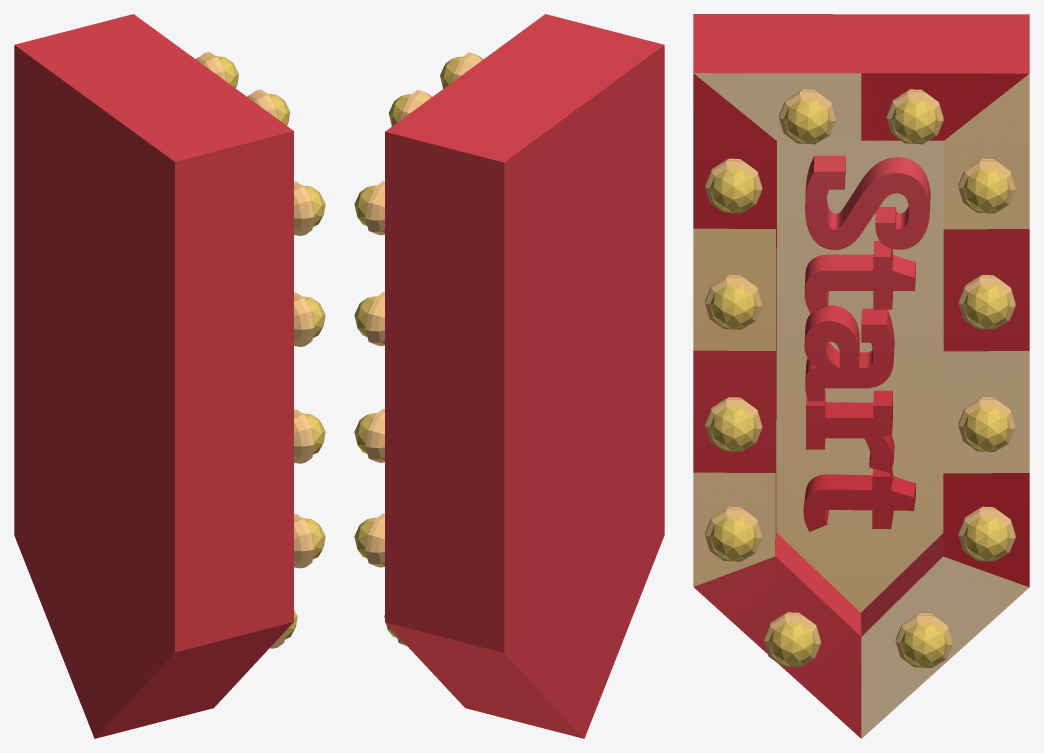
File: Start_button.fbx
3 renders of one model, left to right at view 1: azimuth 30°, elevation 25°; view 2: azimuth 150°, elevation 25°; view 3: azimuth 270°, elevation 25°, orthographic. The views are drawn at different scales.
Visible parts, largest first — view 1: Start_sign, Lightbulb.025, Lightbulb.019, Lightbulb.020, Lightbulb.026, Lightbulb.014, Lightbulb.027; view 2: Start_sign, Lightbulb.016, Lightbulb.015, Lightbulb.018, Lightbulb.017, Lightbulb.014, Lightbulb.027; view 3: Start_sign, Lightbulb.014, Lightbulb.018, Lightbulb.019, Lightbulb.027, Lightbulb.025, Lightbulb.029, Lightbulb.017, Lightbulb.015, Lightbulb.026, Lightbulb.016, Lightbulb.028 (+1 smaller).
Part boxes in pixels (x1=…): Start_sign: x1=14, y1=14, x2=293, y2=738; Lightbulb.025: x1=294, y1=409, x2=325, y2=463; Lightbulb.019: x1=294, y1=181, x2=325, y2=235; Lightbulb.020: x1=294, y1=292, x2=325, y2=346; Lightbulb.026: x1=294, y1=514, x2=325, y2=568; Lightbulb.014: x1=196, y1=52, x2=238, y2=87; Lightbulb.027: x1=247, y1=89, x2=290, y2=125; Start_sign: x1=385, y1=14, x2=664, y2=738; Lightbulb.016: x1=354, y1=292, x2=384, y2=346; Lightbulb.015: x1=354, y1=181, x2=384, y2=235; Lightbulb.018: x1=354, y1=513, x2=384, y2=567; Lightbulb.017: x1=354, y1=409, x2=384, y2=462; Lightbulb.014: x1=388, y1=90, x2=432, y2=126; Lightbulb.027: x1=440, y1=52, x2=483, y2=88; Start_sign: x1=693, y1=14, x2=1029, y2=738; Lightbulb.014: x1=886, y1=89, x2=943, y2=144; Lightbulb.018: x1=958, y1=506, x2=1015, y2=561; Lightbulb.019: x1=705, y1=158, x2=762, y2=213; Lightbulb.027: x1=779, y1=89, x2=836, y2=144; Lightbulb.025: x1=705, y1=397, x2=762, y2=451; Lightbulb.029: x1=763, y1=612, x2=820, y2=667; Lightbulb.017: x1=958, y1=397, x2=1015, y2=451; Lightbulb.015: x1=958, y1=158, x2=1015, y2=213; Lightbulb.026: x1=705, y1=506, x2=762, y2=561; Lightbulb.016: x1=958, y1=275, x2=1015, y2=329; Lightbulb.028: x1=895, y1=613, x2=952, y2=667.
Bounding box in the file's own units: 15.74 × 57.28 × 26.15.
